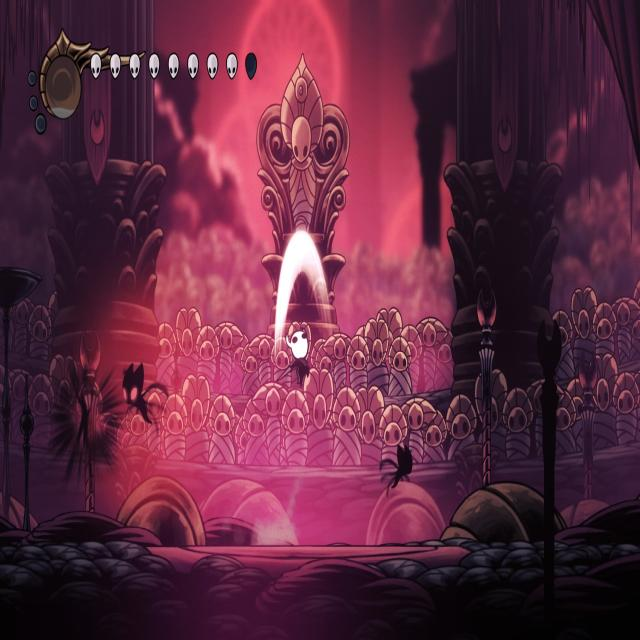Player: (284, 318, 312, 389)
Staggered_Grimm: (120, 355, 170, 428)
